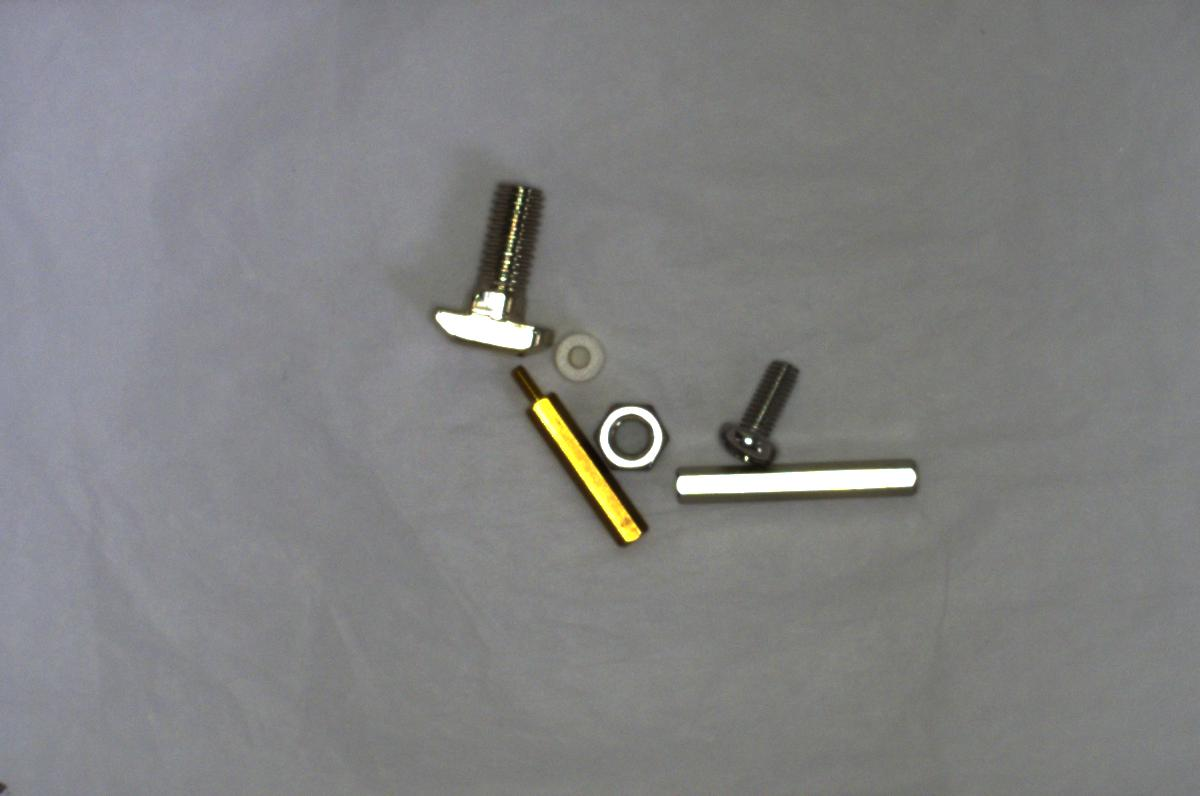Double hexagonal column: (668, 461, 924, 512)
Hexagon nut: (592, 392, 672, 474)
Hexagon pillar: (508, 355, 645, 547)
Plastic cushion pillar: (553, 322, 608, 387)
Round head screw: (707, 352, 801, 466)
T-shaped screw: (417, 174, 554, 356)
